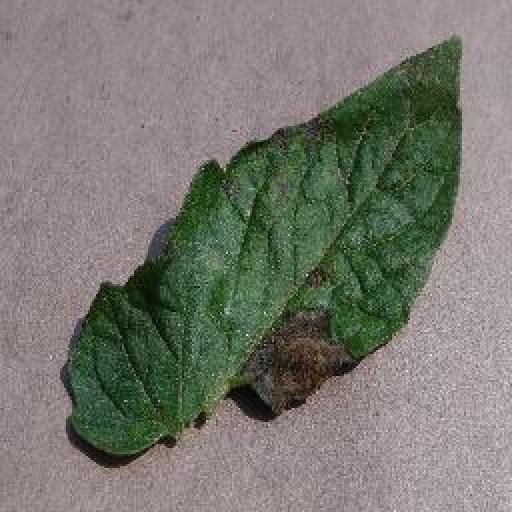Late Blight: (64, 29, 463, 456)
